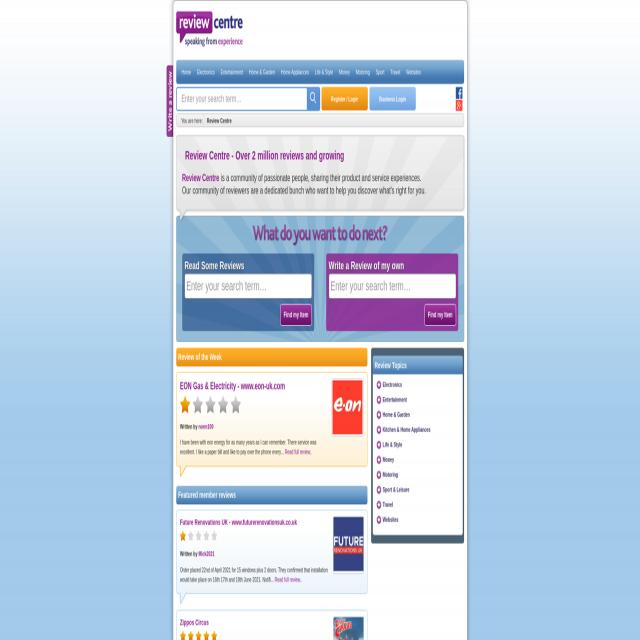button: (177, 12, 243, 54), (331, 378, 364, 437), (334, 516, 364, 570), (322, 87, 368, 110), (370, 87, 416, 110), (333, 616, 363, 640), (278, 61, 311, 82), (247, 61, 277, 83), (280, 305, 312, 325), (424, 305, 456, 325), (218, 61, 245, 84), (166, 66, 174, 136), (312, 61, 336, 84), (403, 60, 425, 84), (195, 61, 217, 84), (354, 61, 372, 84), (336, 61, 353, 83), (178, 60, 194, 83), (373, 60, 387, 83), (388, 61, 402, 84), (308, 86, 320, 110), (456, 87, 463, 99), (456, 100, 462, 112)
field: (184, 273, 312, 299), (329, 273, 456, 299), (176, 87, 308, 110)
